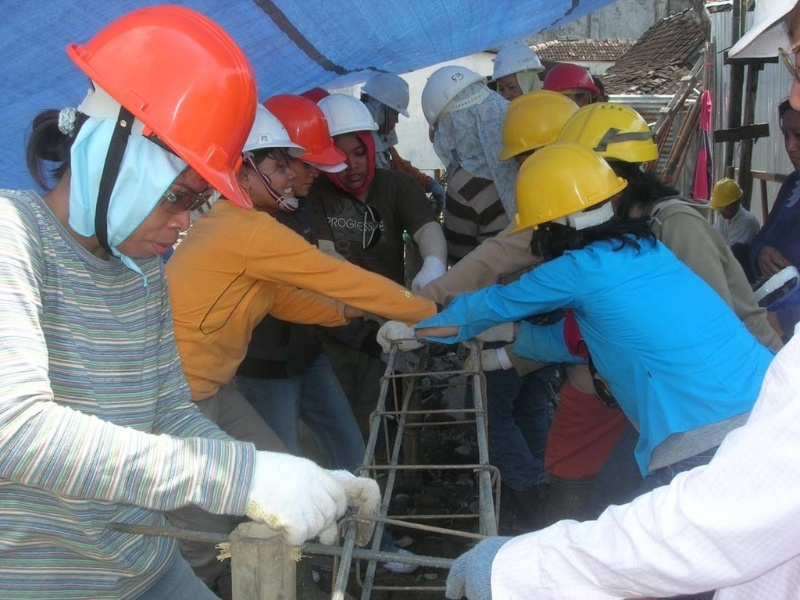Baret: (67, 6, 252, 211), (507, 145, 628, 240)
